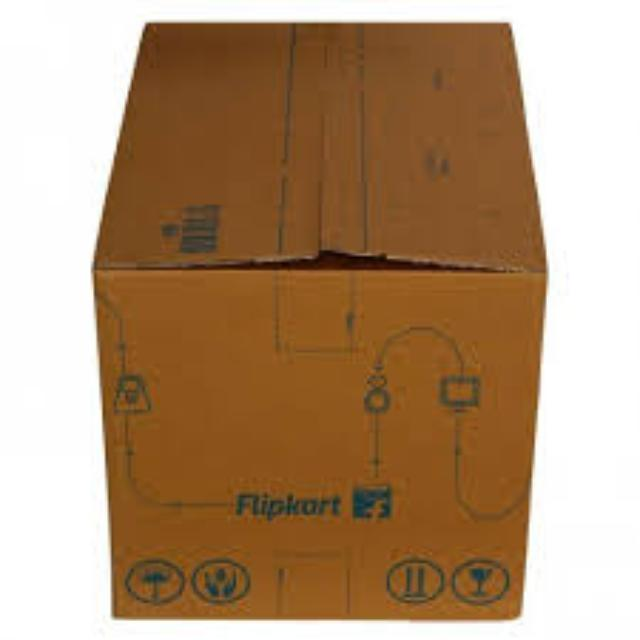cardboard paper: (91, 20, 540, 612)
